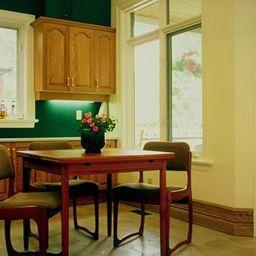Ventana: (125, 14, 210, 158)
